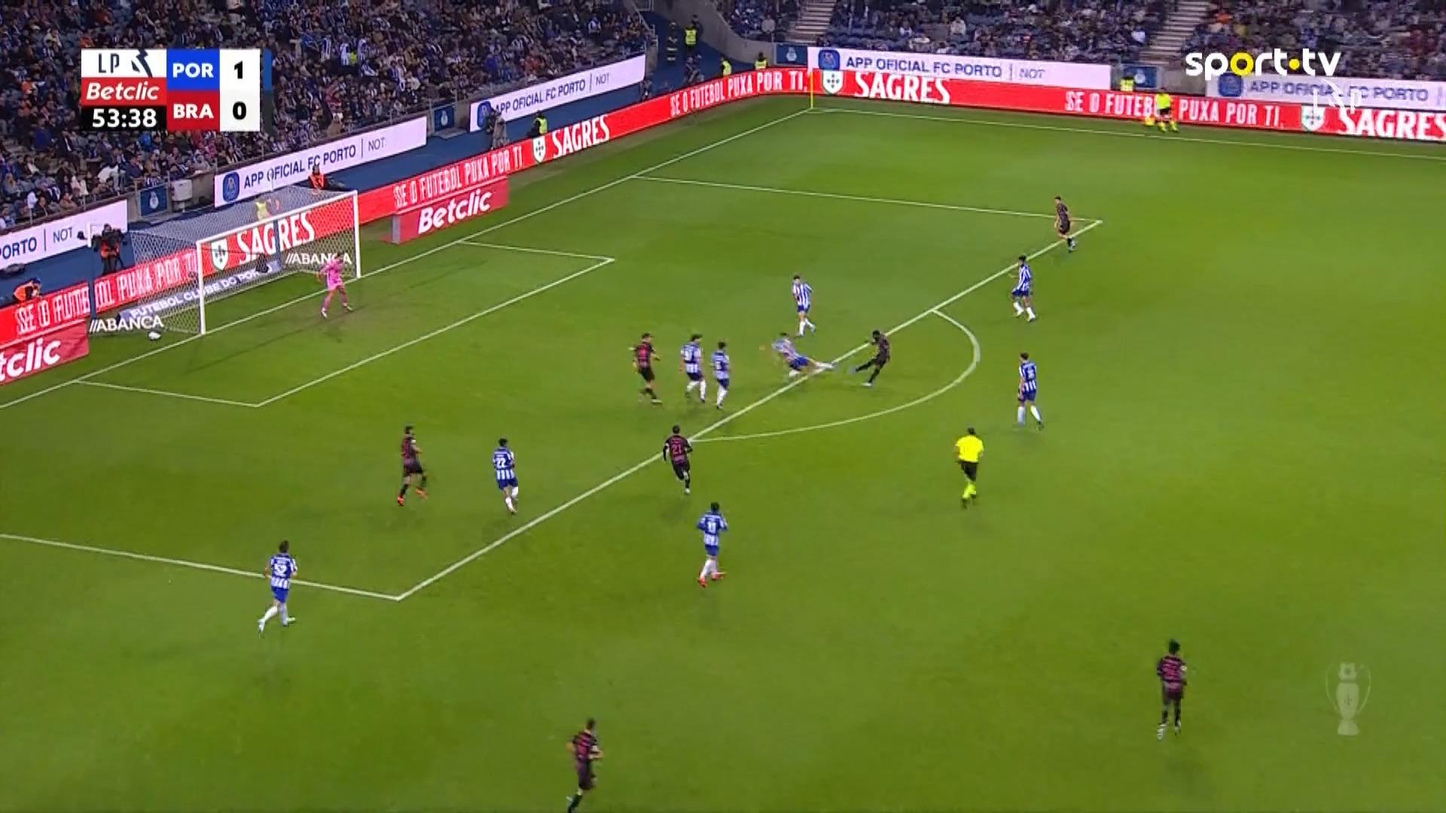goalkeeper: (315, 251, 354, 318)
player: (256, 539, 298, 637), (564, 717, 603, 811), (1155, 638, 1188, 741), (770, 331, 835, 379), (695, 501, 728, 588), (395, 424, 429, 506), (627, 332, 662, 404), (1013, 351, 1044, 430), (851, 328, 891, 387), (661, 424, 694, 495), (491, 437, 520, 515), (679, 332, 707, 403), (1009, 254, 1037, 321), (790, 273, 816, 337), (709, 340, 731, 410), (1053, 194, 1077, 251)
referee: (952, 426, 984, 508), (1153, 87, 1179, 132)
